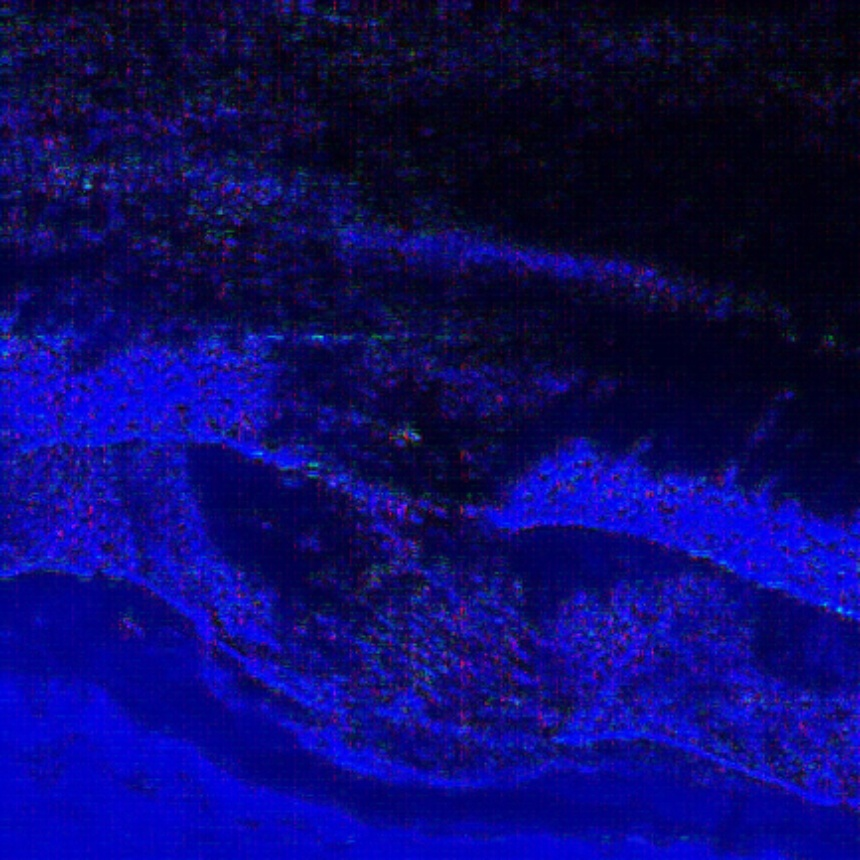rip_current: (151, 125, 621, 642)
